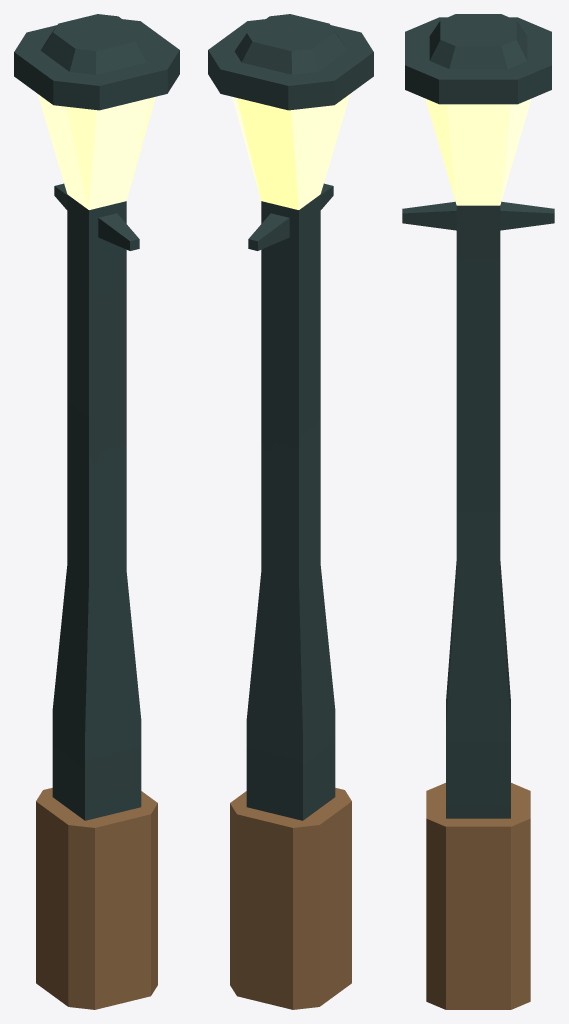
Rendered from beacon.glb.
3 views of the same model, side by side, from view 1: azimuth 30°, elevation 25°; view 2: azimuth 150°, elevation 25°; view 3: azimuth 270°, elevation 25° (orthographic).
Parts seen in each view (by area): view 1: beacon; view 2: beacon; view 3: beacon.
Part boxes in pixels (x1=…): beacon: x1=14, y1=14, x2=179, y2=1009; beacon: x1=208, y1=14, x2=373, y2=1009; beacon: x1=402, y1=14, x2=554, y2=1009.
Size of the model in its own units: 0.2164 by 1.56 by 0.2243.
